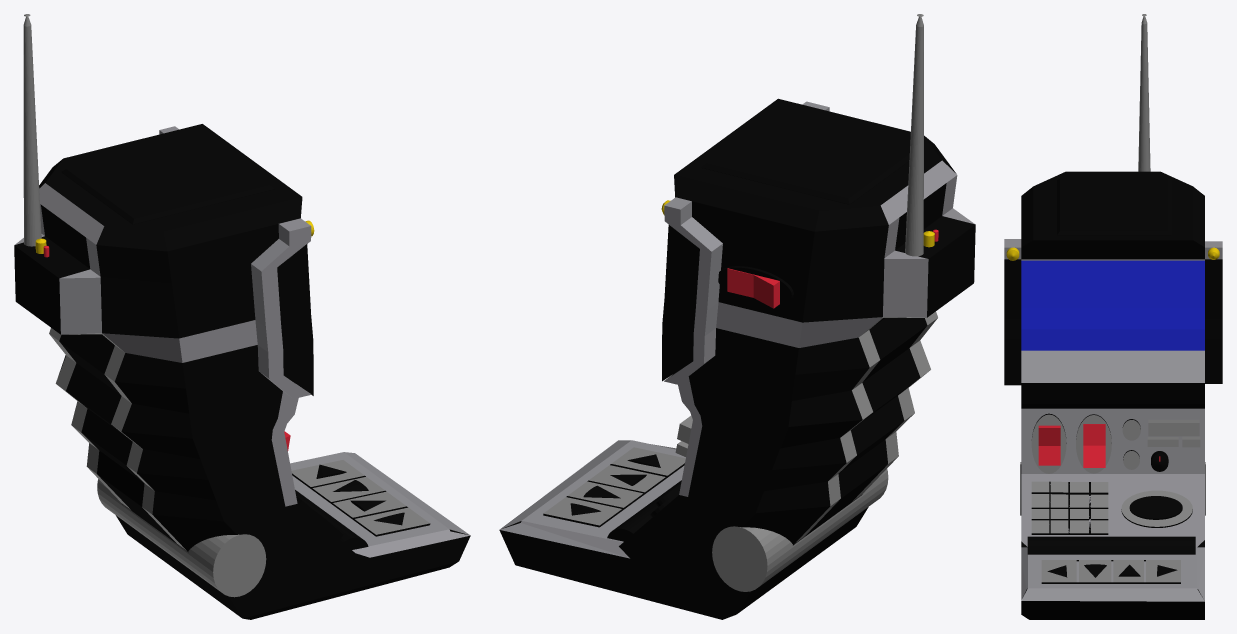
Rendered from дэп.fbx.
3 renders of one model, left to right at view 1: azimuth 30°, elevation 25°; view 2: azimuth 150°, elevation 25°; view 3: azimuth 270°, elevation 25°, orthographic. The views are drawn at different scales.
Visible parts, largest first — view 1: Cube; view 2: Cube; view 3: Cube.
Boxes of the visible parts, <box> form: Cube: <box>14,14,470,619</box>; Cube: <box>499,14,975,619</box>; Cube: <box>1004,14,1222,619</box>.
Bounding box in the file's own units: 379 × 566 × 237.
